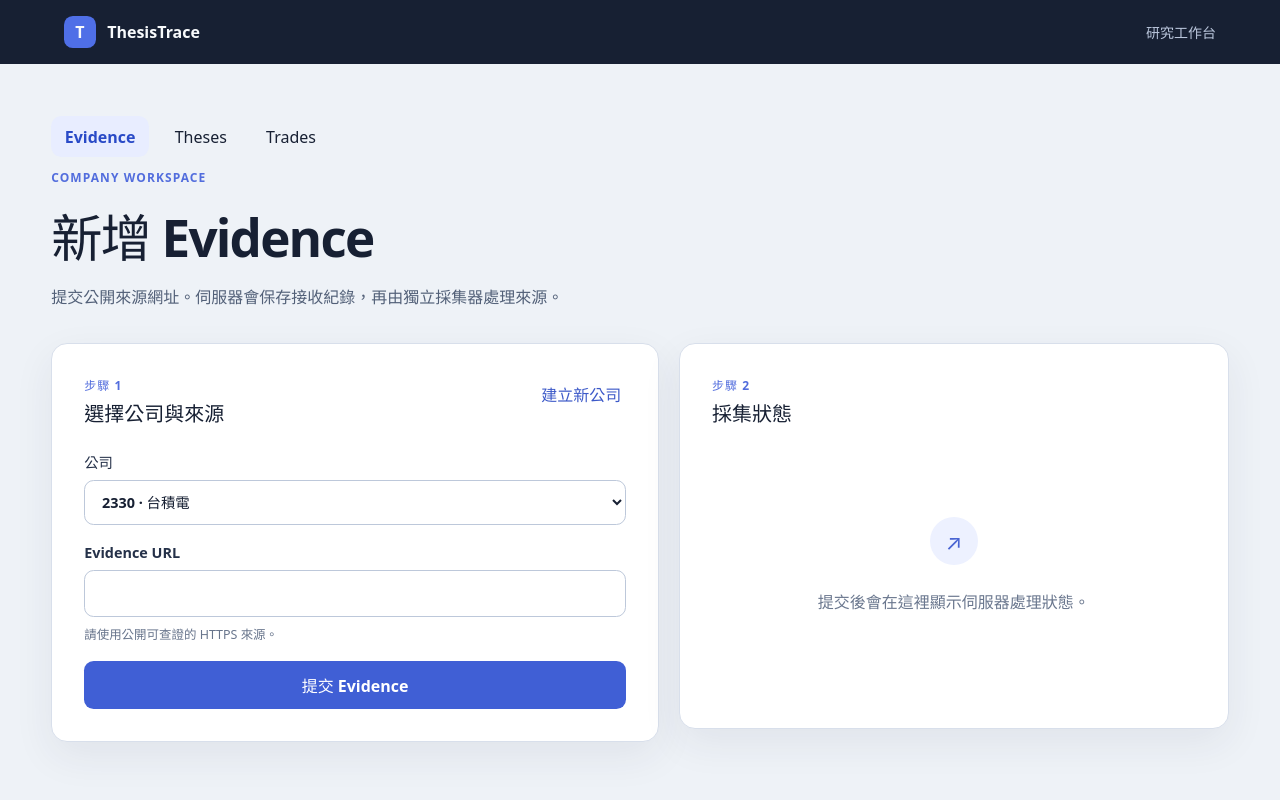
selects a server company and shows its server receipt
This screenshot has width=1280, height=800.
Type "https://example.com/a" into the field labelled "Evidence URL" at (355, 594), box [84,570,626,617]
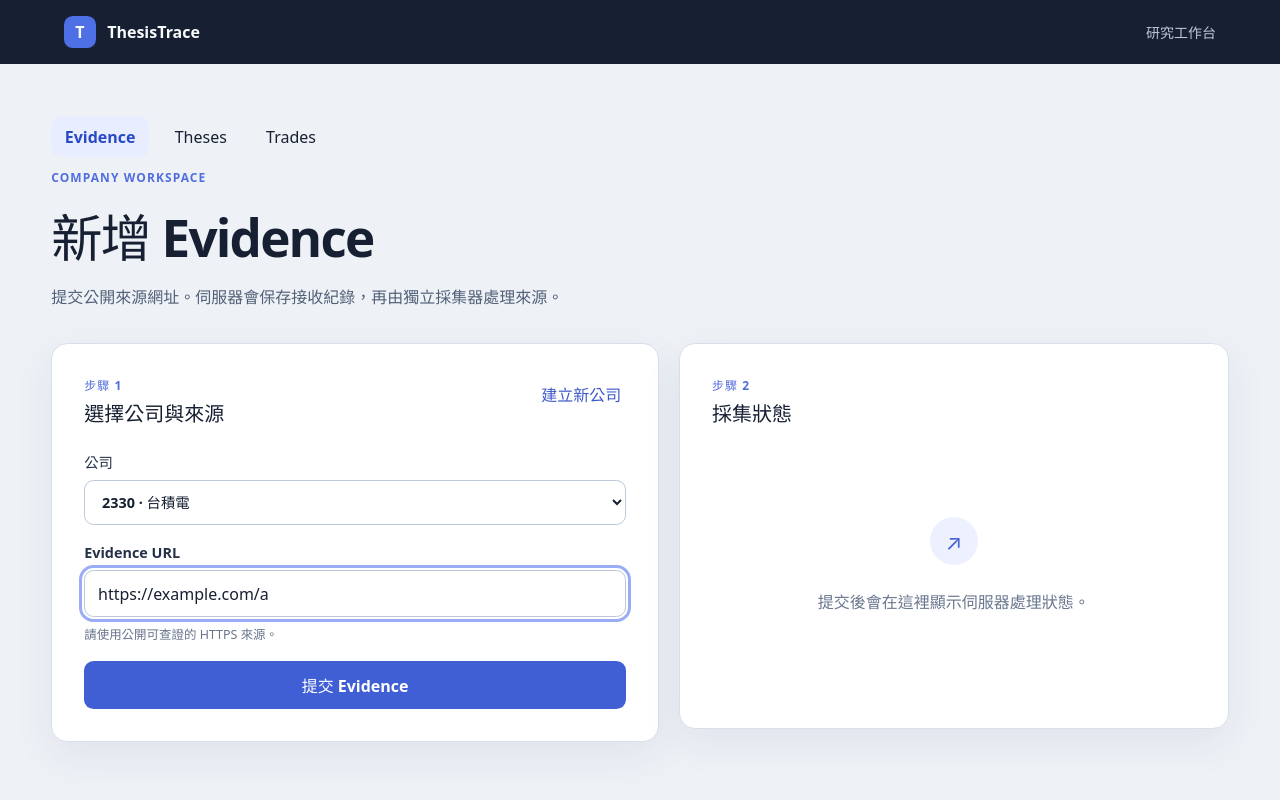
Click the button "提交 Evidence" at (355, 685), box [84,661,626,709]
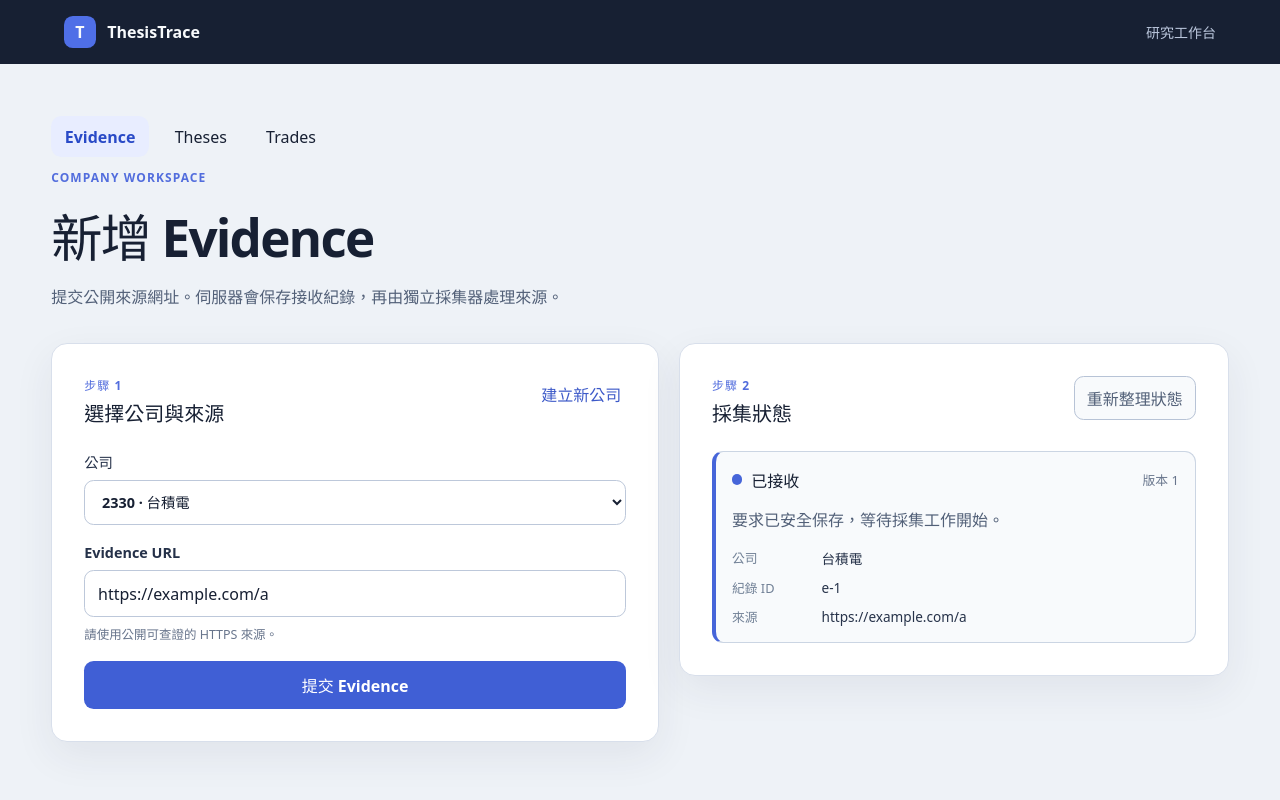
Expected: the message shows "已接收", [751,470,799,492]
